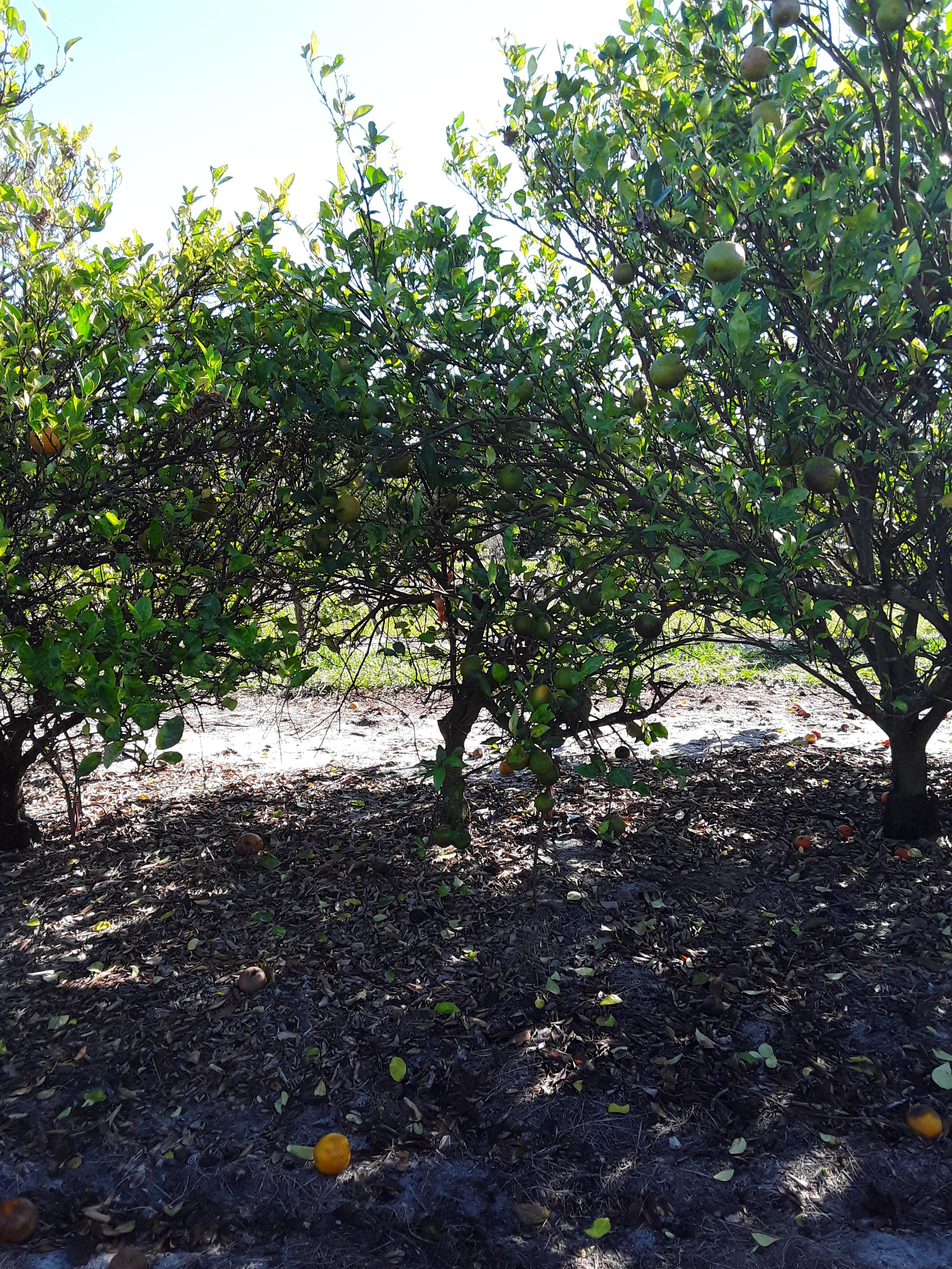fruit_on_ground: (702, 238, 749, 284), (799, 454, 843, 496), (737, 42, 776, 83), (647, 351, 688, 388), (868, 0, 910, 35), (25, 422, 65, 457), (750, 98, 788, 134), (765, 0, 805, 30), (504, 373, 537, 405), (631, 610, 665, 641), (332, 493, 363, 524), (495, 462, 526, 493), (553, 662, 583, 694), (187, 494, 219, 523), (136, 525, 166, 555), (624, 382, 653, 413), (383, 450, 414, 479), (597, 810, 628, 838), (502, 741, 532, 769), (303, 526, 332, 554), (459, 653, 486, 682), (526, 681, 553, 709), (358, 395, 388, 420), (610, 260, 637, 287), (575, 591, 601, 618), (510, 611, 536, 638), (527, 751, 554, 777), (515, 599, 542, 625), (529, 613, 554, 641), (535, 762, 562, 787), (212, 427, 238, 452), (494, 491, 520, 515), (532, 790, 556, 814), (587, 585, 609, 608), (625, 718, 646, 739), (331, 354, 353, 374)
fruit_on_tree: (309, 1128, 355, 1180), (0, 1192, 42, 1247), (903, 1099, 947, 1142), (100, 1242, 153, 1269), (235, 962, 269, 995), (233, 829, 265, 858), (431, 824, 458, 849), (700, 995, 728, 1019), (406, 904, 430, 926), (450, 827, 472, 850), (369, 855, 392, 876), (891, 844, 914, 862), (835, 822, 855, 841), (612, 744, 633, 762), (497, 757, 515, 777), (793, 834, 813, 851), (357, 715, 376, 728), (878, 789, 892, 806), (877, 735, 892, 747), (803, 732, 817, 744), (837, 720, 850, 732), (810, 729, 822, 739), (347, 700, 359, 710), (796, 707, 807, 717), (793, 702, 802, 709), (802, 712, 812, 718)
